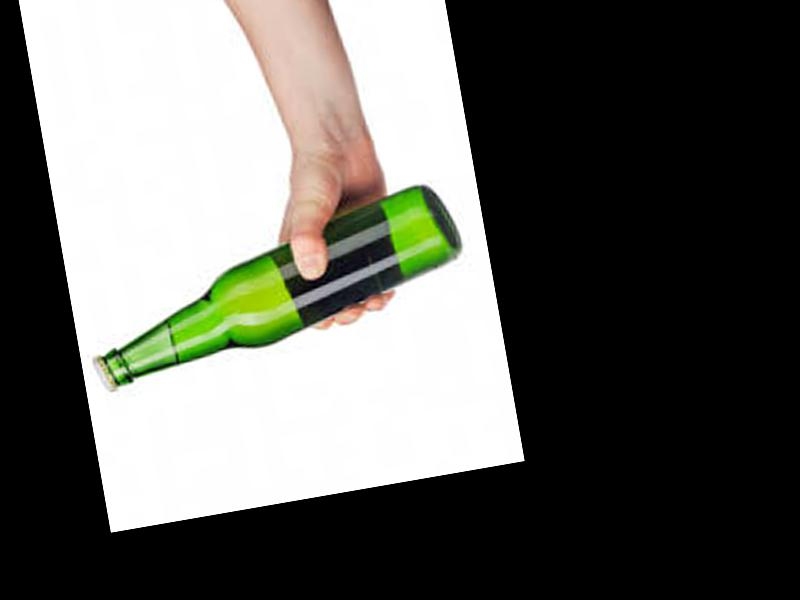Beer: (73, 180, 476, 393)
